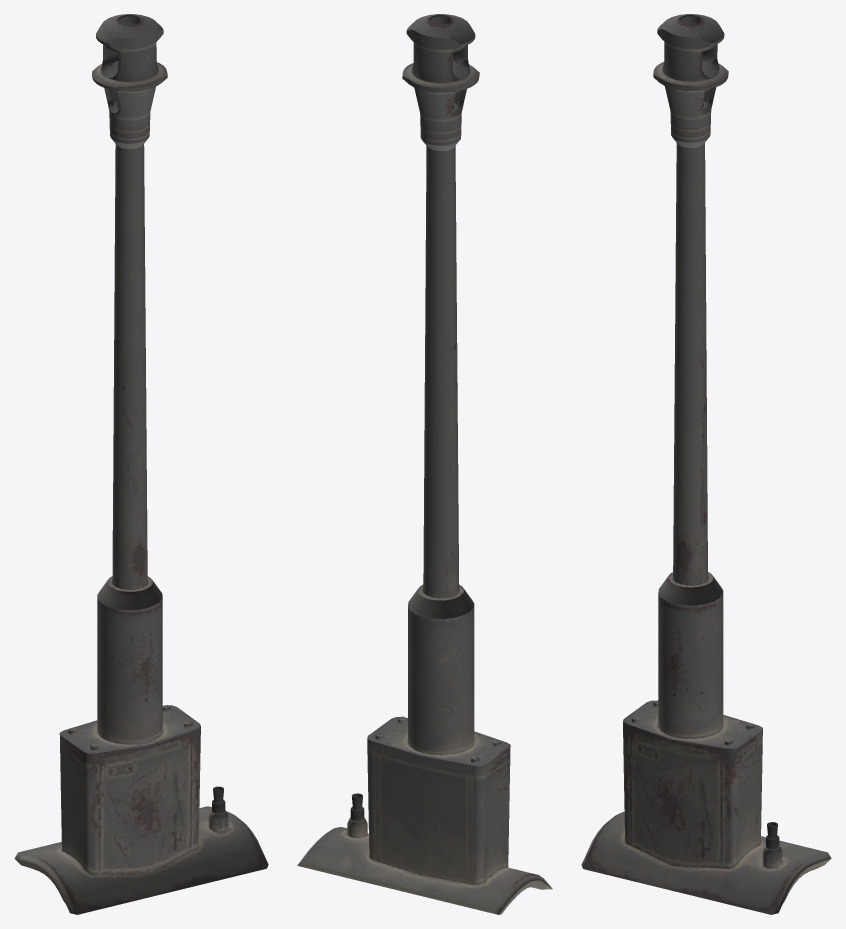
Rendered from Gun_02.glb.
The picture shows the model from 3 angles, left to right: view 1: azimuth 30°, elevation 25°; view 2: azimuth 150°, elevation 25°; view 3: azimuth 330°, elevation 25°; orthographic projection. The views are drawn at different scales.
Parts seen in each view (by area): view 1: set_0_group_0; view 2: set_0_group_0; view 3: set_0_group_0.
Boxes of the visible parts, left/top/right/bottom form: set_0_group_0: left=14, top=14, right=268, bottom=914; set_0_group_0: left=297, top=14, right=552, bottom=914; set_0_group_0: left=581, top=14, right=831, bottom=914.
Size of the model in its own units: 0.7848 by 3.22 by 0.3947.
1 material, 1 textured.
